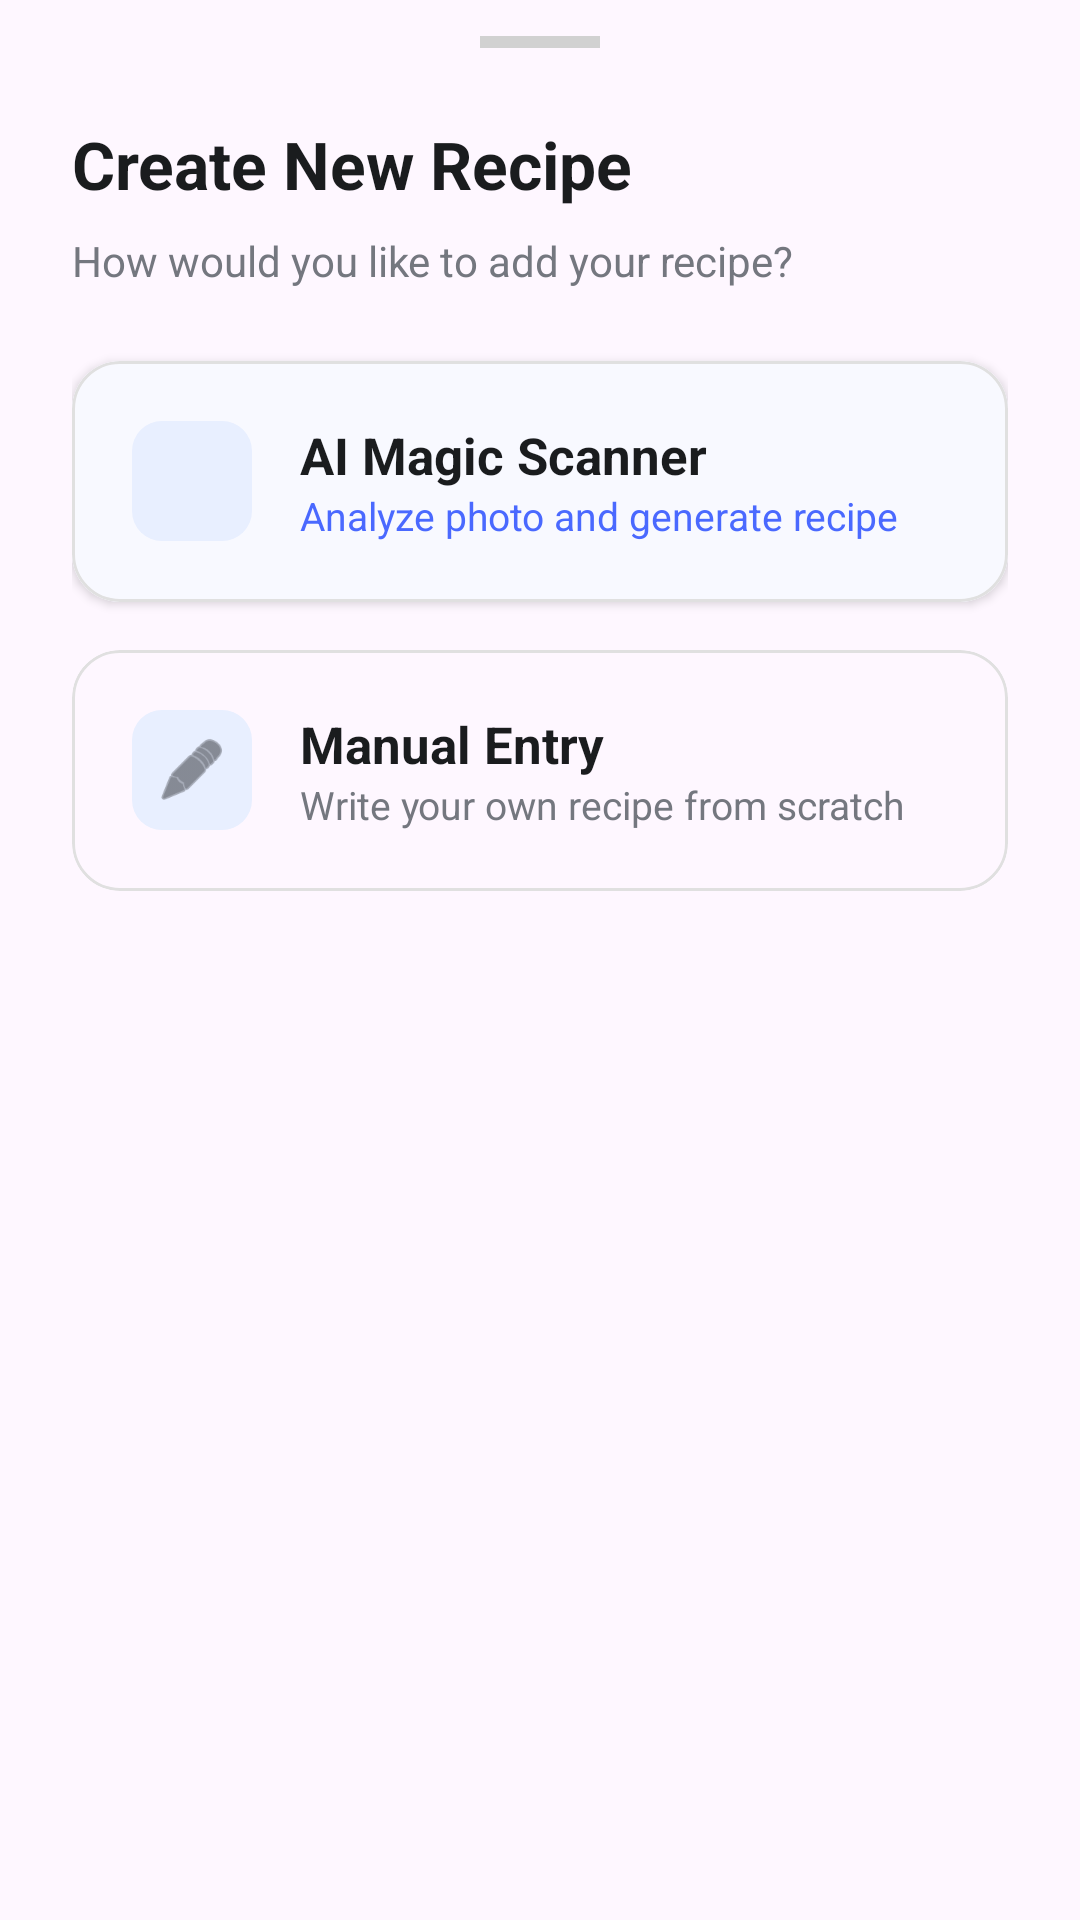

Point at icon controls on the screen. Image size 1080px x 1920px, points as [x,y].
edit: [192,770]
